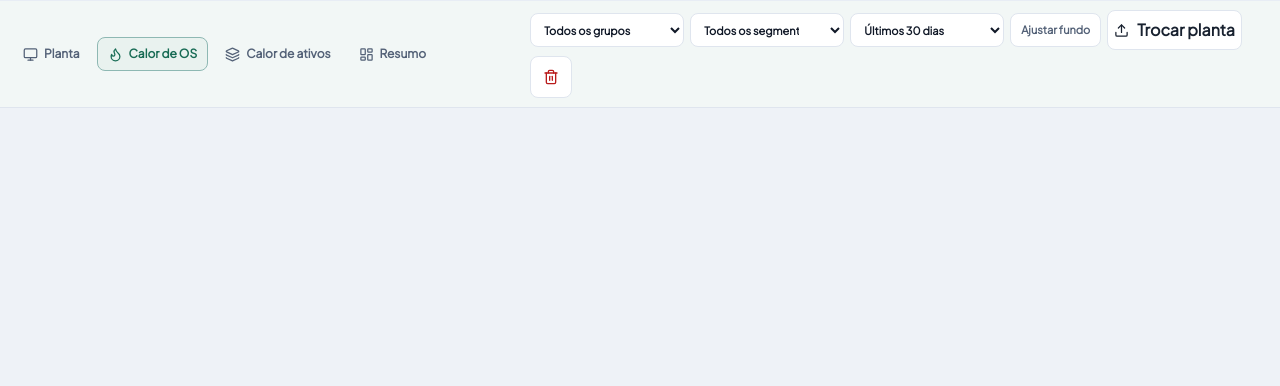
Test case: Mapa de Infraestrutura › oferece período, grupo, segmento e ajustes precisos do fundo
Expected: the dropdown named "Período do mapa de OS" is shown, [850, 13, 1004, 47]
Expected: the dropdown named "Filtrar por grupo" is shown, [530, 13, 684, 47]
Click the heading "Ajustar fundo": (1056, 30) [1010, 13, 1101, 47]
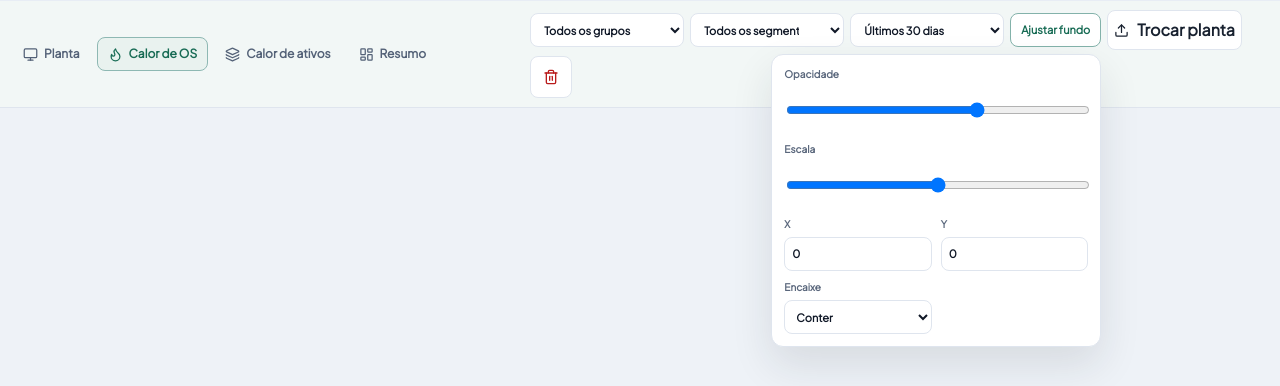
Result: the text "Opacidade" is shown at [784, 67, 1088, 133]
Result: the text "Escala" is shown at [784, 142, 1088, 208]
